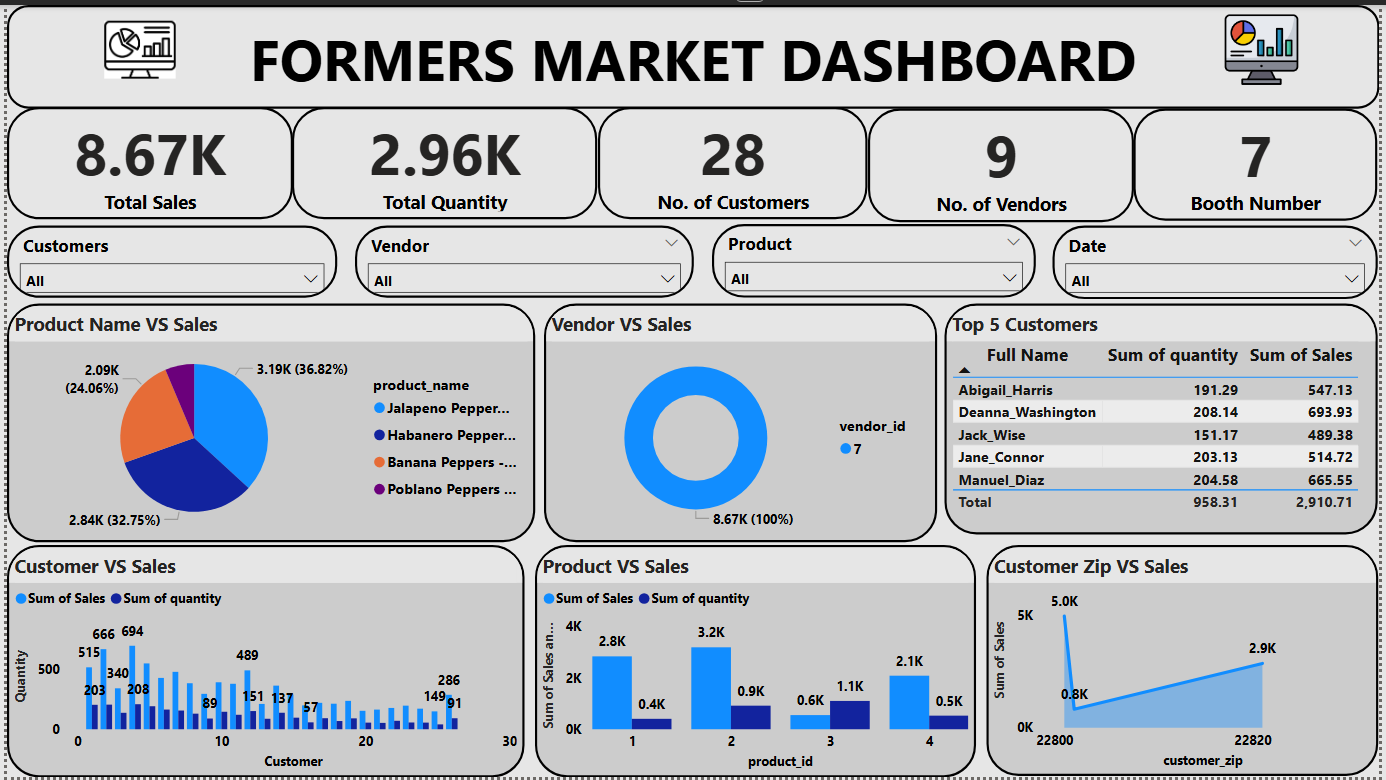

The page's visual inventory and layout, read from the dashboard file:
{"tool":"powerbi","page":{"name":"Quantity and Sales","canvas":[1280,720],"ordinal":2},"visuals":[{"type":"clusteredColumnChart","title":"Customer VS Sales","fields":{"Category":["customer_purchases.customer_id"],"Y":["customer_purchases.Sales","customer_purchases.quantity"]},"box":[0,503.6,482.7,216.8],"z":0},{"type":"clusteredColumnChart","title":"Product VS Sales","fields":{"Category":["product.product_id"],"Y":["customer_purchases.Sales","customer_purchases.quantity"]},"box":[492.4,503.6,411.3,216.8],"z":1000},{"type":"pieChart","title":"Product Name VS Sales","fields":{"Category":["product.product_name"],"Y":["customer_purchases.Sales"]},"box":[0,278.4,492.4,222.4],"z":2000},{"type":"donutChart","title":"Vendor VS Sales","fields":{"Category":["vendor.vendor_id"],"Y":["customer_purchases.Sales"]},"box":[500.8,278.4,366.5,222.4],"z":3000},{"type":"textbox","box":[0,0,1280.1,96.5],"z":4000},{"type":"image","box":[84.8,0,77.2,83.3],"z":5000},{"type":"image","box":[1129.6,0,81.8,83.3],"z":6000},{"type":"card","fields":{"Values":["customer_purchases.total_sales"]},"box":[0,95.4,266.5,104.5],"z":7000},{"type":"card","fields":{"Values":["customer.customer_id"]},"box":[551.2,95.4,251.4,104.5],"z":8000},{"type":"card","fields":{"Values":["vendor.vendor_id"]},"box":[802.5,96.9,248.3,106],"z":9000},{"type":"card","fields":{"Values":["vendor_booth_assignments.booth_number"]},"box":[1050.9,96.9,227.1,104.5],"z":10000},{"type":"tableEx","title":"Top 5 Customers","fields":{"Values":["customer.full_name","customer_purchases.quantity","customer_purchases.Sales"]},"box":[874.4,278.4,404.3,215.4],"z":11000},{"type":"areaChart","title":"Customer Zip VS Sales","fields":{"Category":["customer.customer_zip"],"Y":["customer_purchases.Sales"]},"box":[913.5,503.6,365.1,215.4],"z":12000},{"type":"card","fields":{"Values":["customer_purchases.quantity"]},"box":[266.5,95.4,284.7,104.5],"z":12001},{"type":"slicer","fields":{"Values":["customer.customer_id"]},"box":[0,205.7,307.8,67.2],"z":12002},{"type":"slicer","fields":{"Values":["vendor.vendor_id"]},"box":[324.6,205.7,316.2,67.2],"z":12003},{"type":"slicer","fields":{"Values":["product.product_id"]},"box":[657.5,204.3,302.2,68.6],"z":12004},{"type":"slicer","fields":{"Values":["market_date_info.market_date"]},"box":[975.1,205.7,303.6,68.6],"z":12005}]}

Visuals, with their boxes in screenshot pixels (x1, y1, x2, y2), scaled from the page's 1280x720 canvas onto the 1386x780 screenshot:
"Customer VS Sales" clusteredColumnChart: (0, 546, 523, 779)
"Product VS Sales" clusteredColumnChart: (533, 546, 979, 779)
"Product Name VS Sales" pieChart: (0, 302, 533, 543)
"Vendor VS Sales" donutChart: (542, 302, 939, 543)
textbox: (0, 0, 1385, 105)
image: (92, 0, 175, 90)
image: (1223, 0, 1312, 90)
card - customer_purchases.total_sales: (0, 103, 289, 217)
card - customer.customer_id: (597, 103, 869, 217)
card - vendor.vendor_id: (869, 105, 1138, 220)
card - vendor_booth_assignments.booth_number: (1138, 105, 1384, 218)
"Top 5 Customers" tableEx: (947, 302, 1385, 535)
"Customer Zip VS Sales" areaChart: (989, 546, 1384, 779)
card - customer_purchases.quantity: (289, 103, 597, 217)
slicer - customer.customer_id: (0, 223, 333, 296)
slicer - vendor.vendor_id: (351, 223, 694, 296)
slicer - product.product_id: (712, 221, 1039, 296)
slicer - market_date_info.market_date: (1056, 223, 1385, 297)
